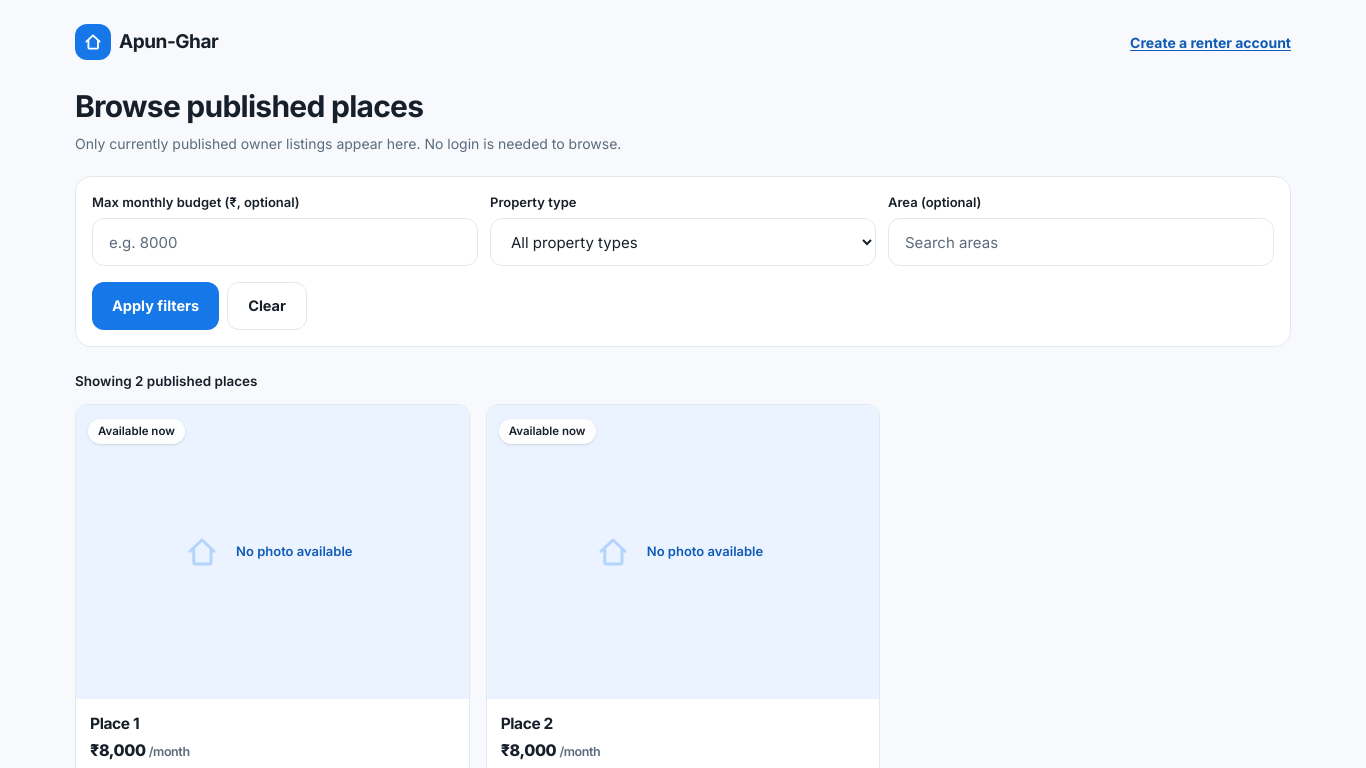
Test case: public browse page › rejects an overflowing budget instead of silently dropping the filter
Expected: the text "Showing 2 published places" is shown, top-left (75, 373), bottom-right (258, 389)
// Safe integer rupees whose paise value overflows a safe integer.
Type "90071992547410" into the field with placeholder "e.g. 8000" at [285, 242], box top-left (92, 218), bottom-right (478, 266)
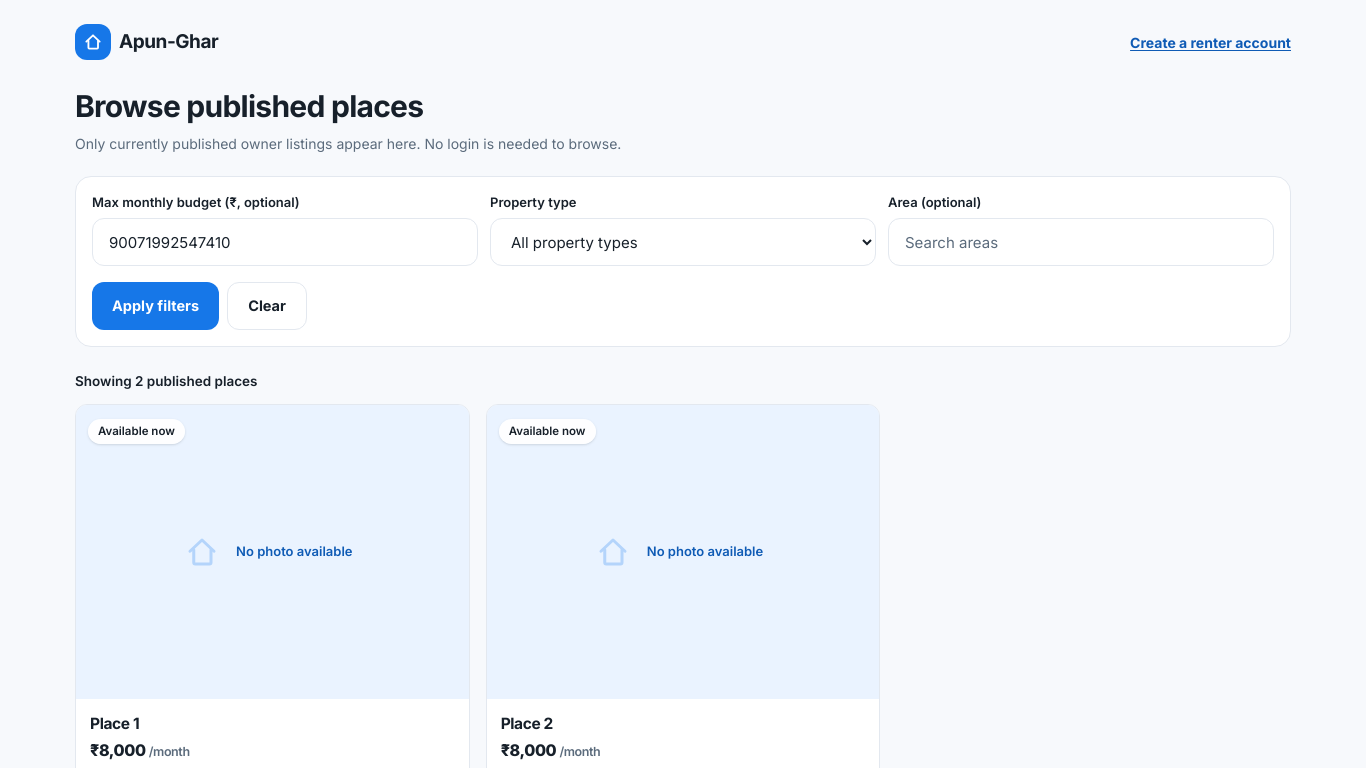
Click the button "Apply filters" at [156, 306], box top-left (92, 282), bottom-right (219, 330)
(page scrolled)
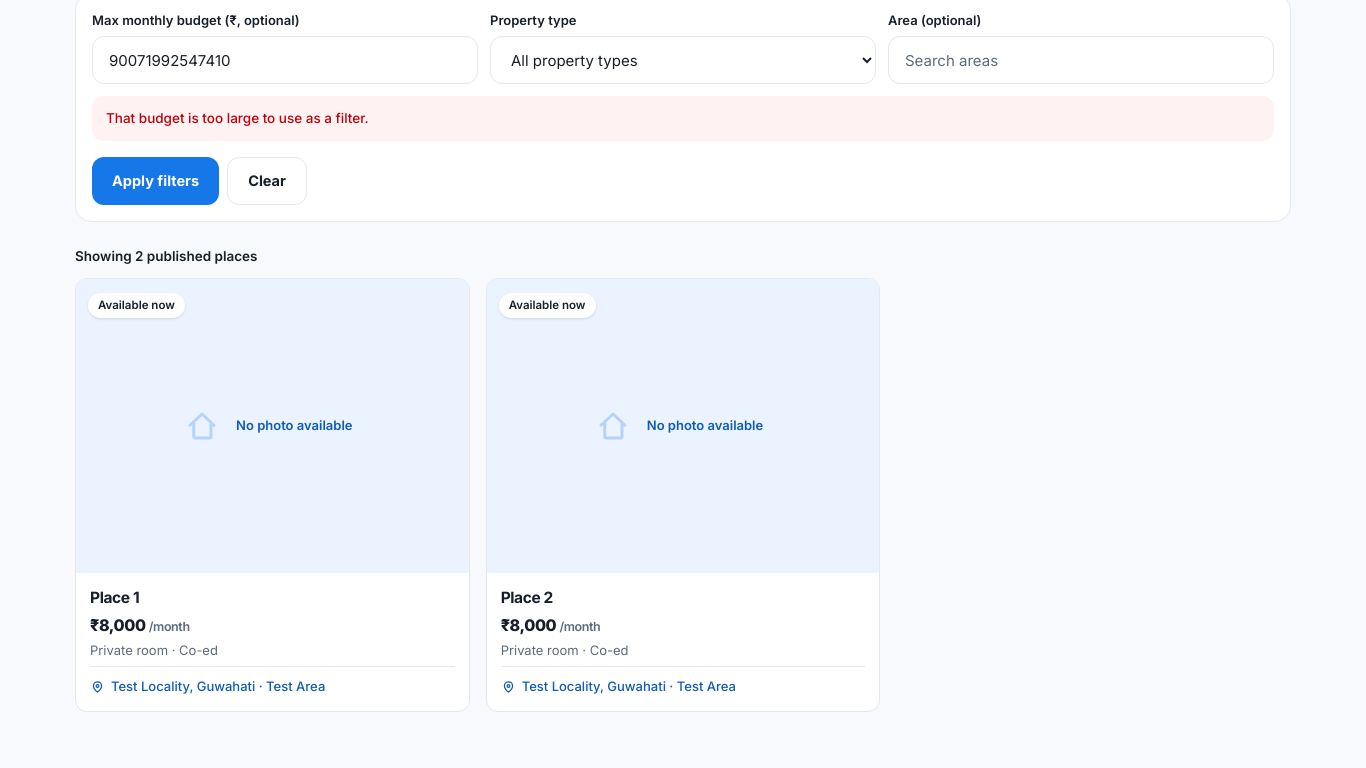
Expected: the heading "Place 2" is shown, top-left (501, 588), bottom-right (553, 607)
Now the text "That budget is too large to use as a filter." is shown, box top-left (92, 96), bottom-right (1274, 141)
